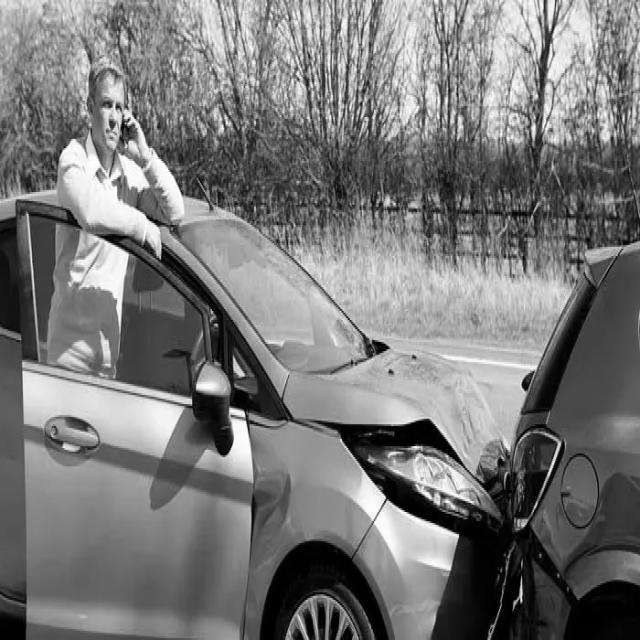crush: (299, 348, 517, 640), (507, 438, 640, 640)
dent: (241, 431, 307, 638)
